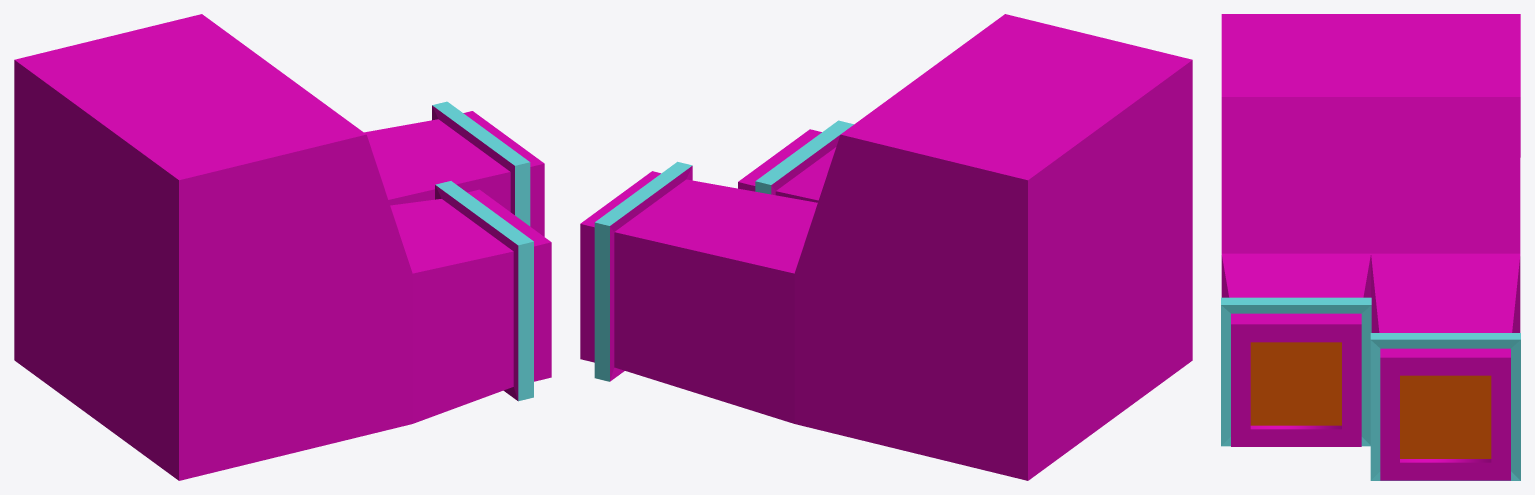
The model's file is fbx_pants_80s.fbx.
3 renders of one model, left to right at view 1: azimuth 30°, elevation 25°; view 2: azimuth 150°, elevation 25°; view 3: azimuth 270°, elevation 25°, orthographic. The views are drawn at different scales.
Visible parts, largest first — view 1: sm_pants_80s; view 2: sm_pants_80s; view 3: sm_pants_80s.
Boxes of the visible parts, box(x1,y1,x2,y2) form: sm_pants_80s: box(14, 14, 551, 480); sm_pants_80s: box(580, 14, 1192, 480); sm_pants_80s: box(1221, 14, 1520, 480).
Bounding box in the file's own units: 48.68 × 31.16 × 30.77.
